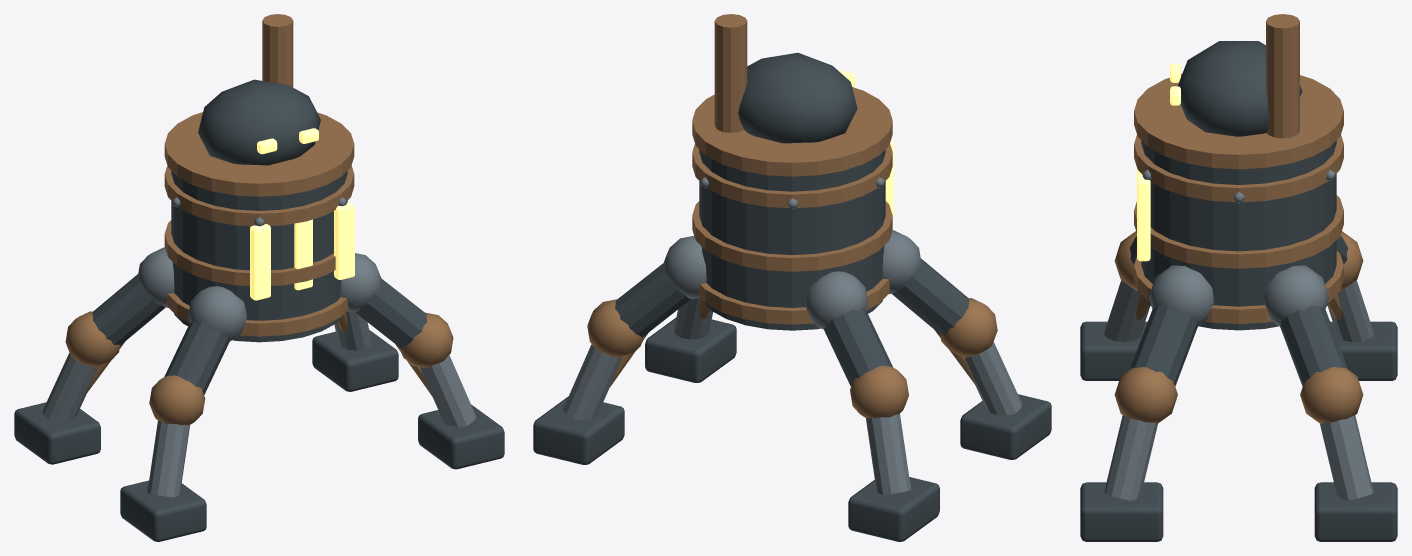
The model's file is sentinel.glb.
3 views of the same model, side by side, from view 1: azimuth 30°, elevation 25°; view 2: azimuth 150°, elevation 25°; view 3: azimuth 270°, elevation 25° (orthographic). The views are drawn at different scales.
Visible parts, largest first — view 1: Body, Body_ring.003, Head, Foot, Foot.002, Foot.001, Foot.003, Body_ring.002, Upper_leg.001, Body_ring.001, Upper_leg, Upper_leg.002 (+15 smaller); view 2: Body, Head, Body_ring.003, Foot.001, Foot.003, Foot, Foot.002, Body_ring.001, Body_ring.002, Exhaust, Upper_leg, Upper_leg.001 (+12 smaller); view 3: Body, Body_ring.003, Head, Foot.002, Foot.003, Exhaust, Body_ring.002, Body_ring.001, Upper_leg.002, Upper_leg.003, Lower_leg.002, Lower_leg.003 (+12 smaller).
Boxes of the visible parts, x1=… form: Body: x1=171, y1=171, x2=347, y2=342; Body_ring.003: x1=164, y1=112, x2=354, y2=196; Head: x1=198, y1=79, x2=320, y2=165; Foot: x1=120, y1=480, x2=206, y2=541; Foot.002: x1=418, y1=404, x2=504, y2=469; Foot.001: x1=14, y1=402, x2=100, y2=464; Foot.003: x1=312, y1=330, x2=398, y2=391; Body_ring.002: x1=164, y1=166, x2=354, y2=226; Upper_leg.001: x1=92, y1=274, x2=165, y2=345; Body_ring.001: x1=164, y1=220, x2=335, y2=285; Upper_leg: x1=164, y1=321, x2=229, y2=394; Upper_leg.002: x1=355, y1=278, x2=426, y2=348; Body: x1=699, y1=149, x2=885, y2=330; Head: x1=738, y1=52, x2=857, y2=143; Body_ring.003: x1=692, y1=87, x2=892, y2=176; Foot.001: x1=848, y1=477, x2=939, y2=541; Foot.003: x1=533, y1=396, x2=624, y2=464; Foot: x1=960, y1=394, x2=1051, y2=459; Foot.002: x1=645, y1=317, x2=736, y2=382; Body_ring.001: x1=692, y1=201, x2=892, y2=271; Body_ring.002: x1=692, y1=144, x2=892, y2=208; Exhaust: x1=714, y1=14, x2=747, y2=132; Upper_leg: x1=892, y1=258, x2=969, y2=334; Upper_leg.001: x1=824, y1=308, x2=893, y2=386; Body: x1=1141, y1=140, x2=1336, y2=330; Body_ring.003: x1=1134, y1=74, x2=1343, y2=169; Head: x1=1177, y1=41, x2=1302, y2=136; Foot.002: x1=1080, y1=482, x2=1163, y2=541; Foot.003: x1=1314, y1=482, x2=1397, y2=541; Exhaust: x1=1266, y1=14, x2=1299, y2=138; Body_ring.002: x1=1134, y1=135, x2=1343, y2=202; Body_ring.001: x1=1134, y1=195, x2=1343, y2=268; Upper_leg.002: x1=1130, y1=306, x2=1197, y2=386; Upper_leg.003: x1=1280, y1=306, x2=1347, y2=386; Lower_leg.002: x1=1104, y1=415, x2=1157, y2=500; Lower_leg.003: x1=1320, y1=415, x2=1373, y2=500.
Size of the model in its own units: 1.84 by 2.03 by 1.3.
